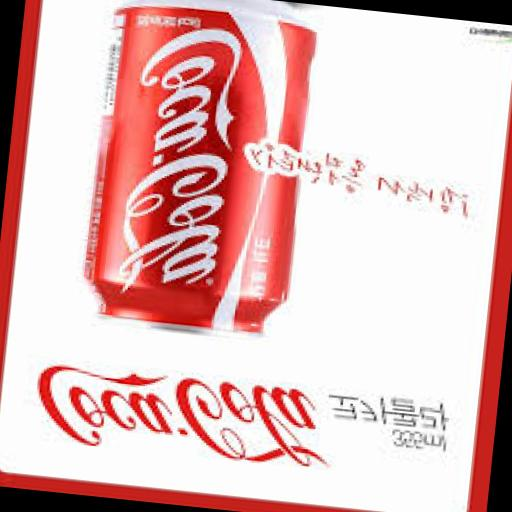Coca: (66, 0, 327, 351)
